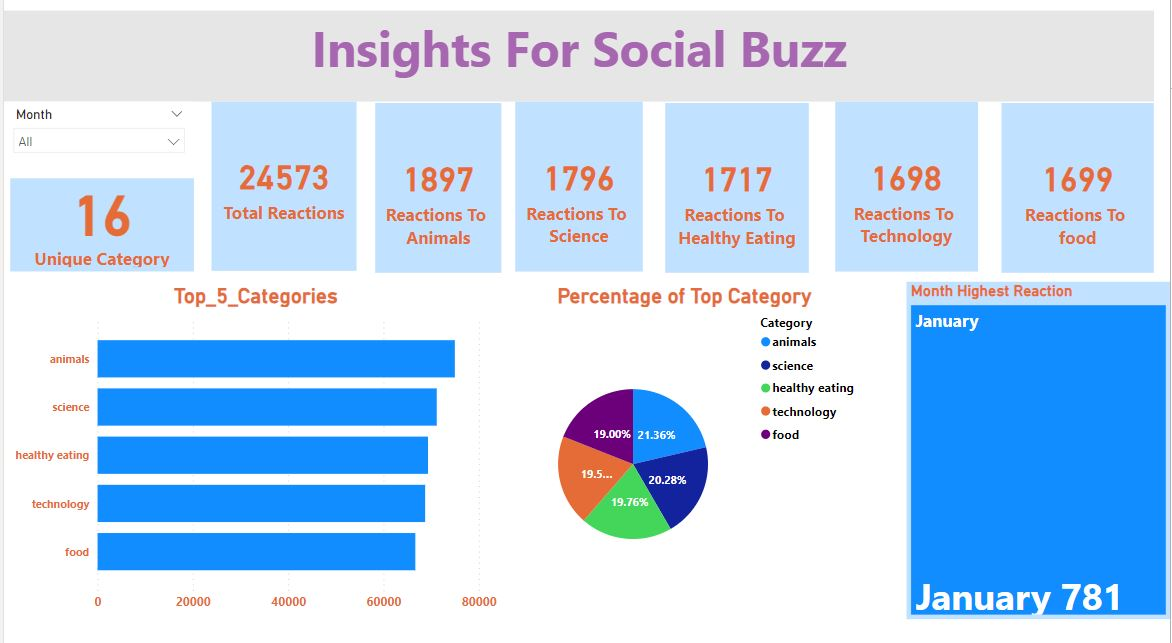

The page's visual inventory and layout, read from the dashboard file:
{"tool":"powerbi","page":{"name":"Page 1","canvas":[1280,720],"ordinal":0},"visuals":[{"type":"card","fields":{"Values":["Clean.Unique Category"]},"box":[6.9,197.6,201.7,113.9],"z":0},{"type":"textbox","box":[0,25.3,1262.7,100.1],"z":1000},{"type":"slicer","fields":{"Values":["Clean.Datetime.Variation.Date Hierarchy.Month"]},"box":[0,124.9,208.6,83.7],"z":2000},{"type":"pieChart","title":"Percentage of Top  Category","fields":{"Category":["Clean.Category"],"Y":["Clean.Top 5 Sum"]},"box":[546.1,323.8,402.1,369.1],"z":3000},{"type":"clusteredBarChart","title":"Top_5_Categories","fields":{"Category":["Clean.Category"],"Y":["Sum(Clean.Score)"]},"box":[6.9,323.8,539.3,369.1],"z":4000},{"type":"card","fields":{"Values":["Clean.Total Reactions"]},"box":[227.8,124.9,159.2,185.2],"z":5000},{"type":"card","fields":{"Values":["Category Counts.AnimalReactionCount"]},"box":[407.5,126.2,138.6,186.6],"z":6000},{"type":"card","fields":{"Values":["Category Counts.ScienceReactionCount"]},"box":[561.2,124.9,140,186.6],"z":7000},{"type":"card","fields":{"Values":["Category Counts.HealthyEatingReactionCount"]},"box":[725.9,126.2,157.8,186.6],"z":8000},{"type":"card","fields":{"Values":["Category Counts.TechnologyReactionCount"]},"box":[912.5,124.9,156.4,186.6],"z":9000},{"type":"card","fields":{"Values":["Category Counts.FoodReactionCount"]},"box":[1095,126.2,167.4,186.6],"z":10000},{"type":"treemap","title":"Month Highest Reaction","fields":{"Group":["Clean.Datetime.Variation.Date Hierarchy.Month"],"Details":["Clean.Datetime.Variation.Date Hierarchy.Month"],"Values":["Category Counts.Coount OF Content_ID"]},"box":[990.7,322.5,289.5,370.5],"z":11000}]}

Visuals, with their boxes in screenshot pixels (x1, y1, x2, y2), scaled from the page's 1280x720 canvas onto the 1172x643 screenshot:
card - Clean.Unique Category: l=6, t=176, r=191, b=278
textbox: l=0, t=23, r=1156, b=112
slicer - Clean.Datetime.Variation.Date Hierarchy.Month: l=0, t=112, r=191, b=186
"Percentage of Top  Category" pieChart: l=500, t=289, r=868, b=619
"Top_5_Categories" clusteredBarChart: l=6, t=289, r=500, b=619
card - Clean.Total Reactions: l=209, t=112, r=354, b=277
card - Category Counts.AnimalReactionCount: l=373, t=113, r=500, b=279
card - Category Counts.ScienceReactionCount: l=514, t=112, r=642, b=278
card - Category Counts.HealthyEatingReactionCount: l=665, t=113, r=809, b=279
card - Category Counts.TechnologyReactionCount: l=836, t=112, r=979, b=278
card - Category Counts.FoodReactionCount: l=1003, t=113, r=1156, b=279
"Month Highest Reaction" treemap: l=907, t=288, r=1171, b=619
